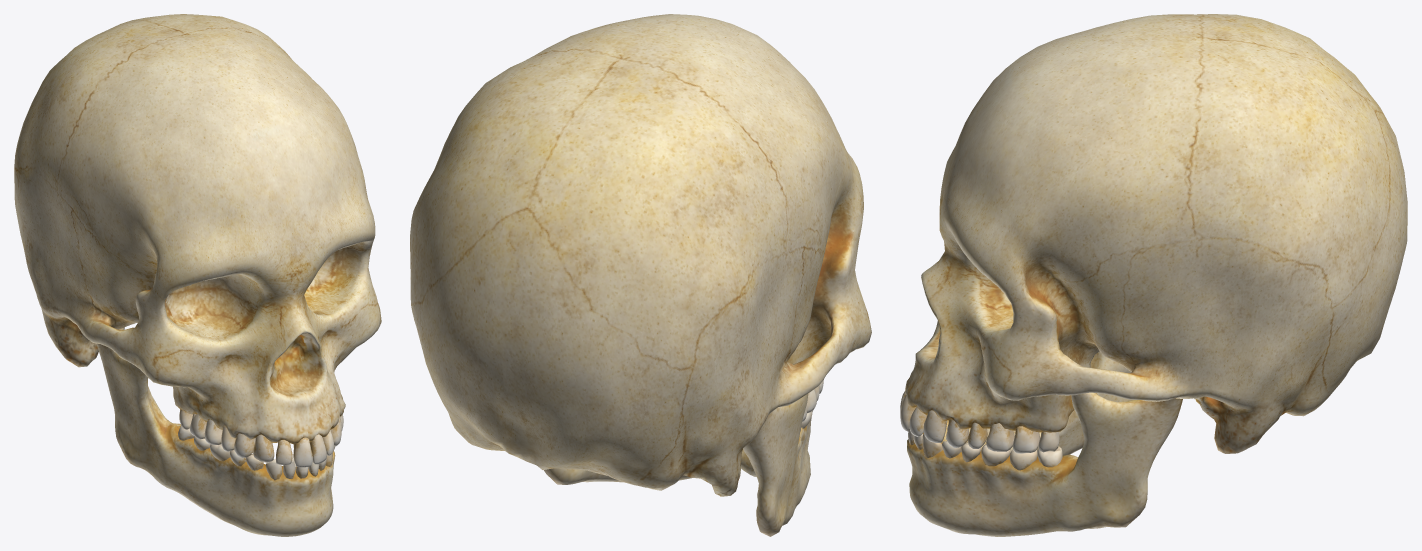
Rendered from human_skull.gltf.
The picture shows the model from 3 angles, left to right: view 1: azimuth 30°, elevation 25°; view 2: azimuth 150°, elevation 25°; view 3: azimuth 270°, elevation 25°; orthographic projection. The views are drawn at different scales.
Parts seen in each view (by area): view 1: human_skull.1_1; view 2: human_skull.1_1; view 3: human_skull.1_1.
Boxes of the visible parts, x1,y1,x2,y2 form: human_skull.1_1: [14, 14, 381, 536]; human_skull.1_1: [410, 14, 871, 536]; human_skull.1_1: [900, 14, 1407, 536].
Size of the model in its own units: 0.0223 by 0.0338 by 0.0323.
Materials: 1 (1 with a texture image).
